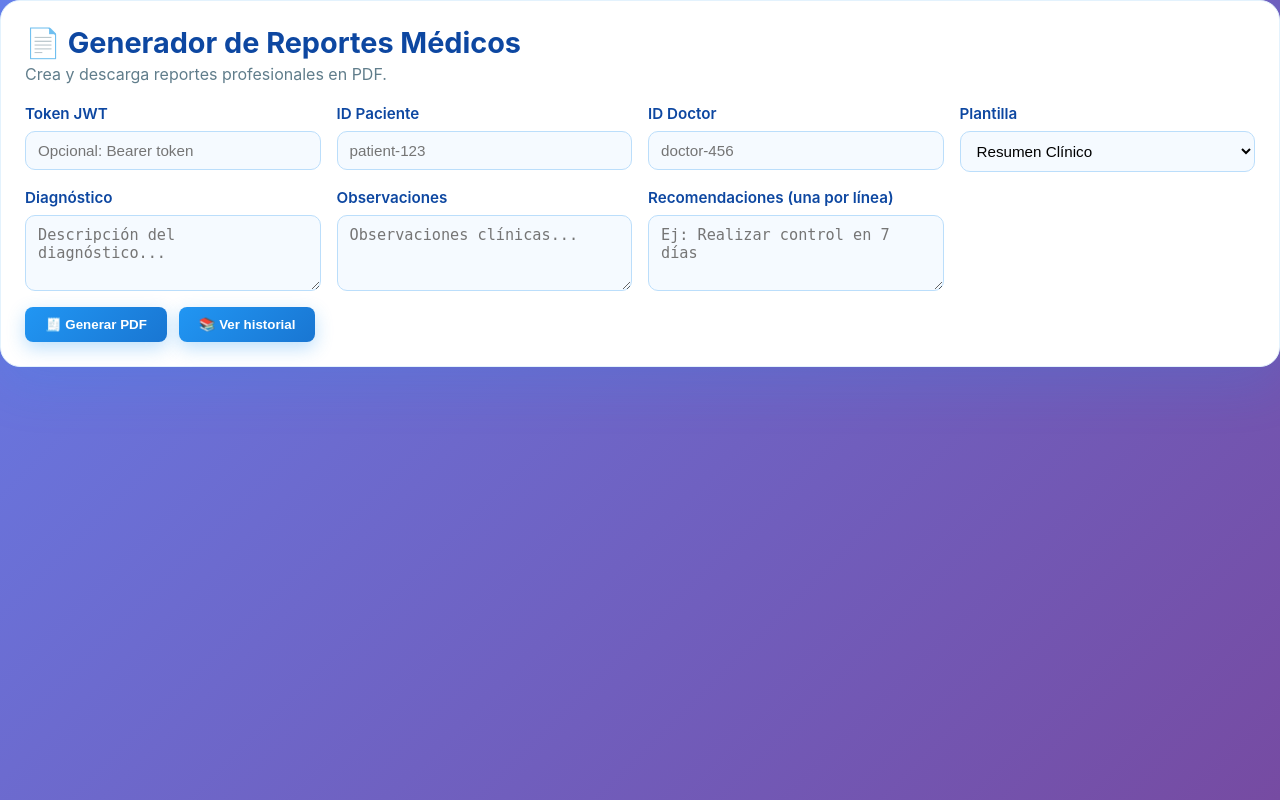
MedicalReport component › carga historial con éxito cuando se proporciona paciente
Type "patient-2" into the field with placeholder "patient-123" at {"x": 484, "y": 150}, box [336, 131, 632, 170]
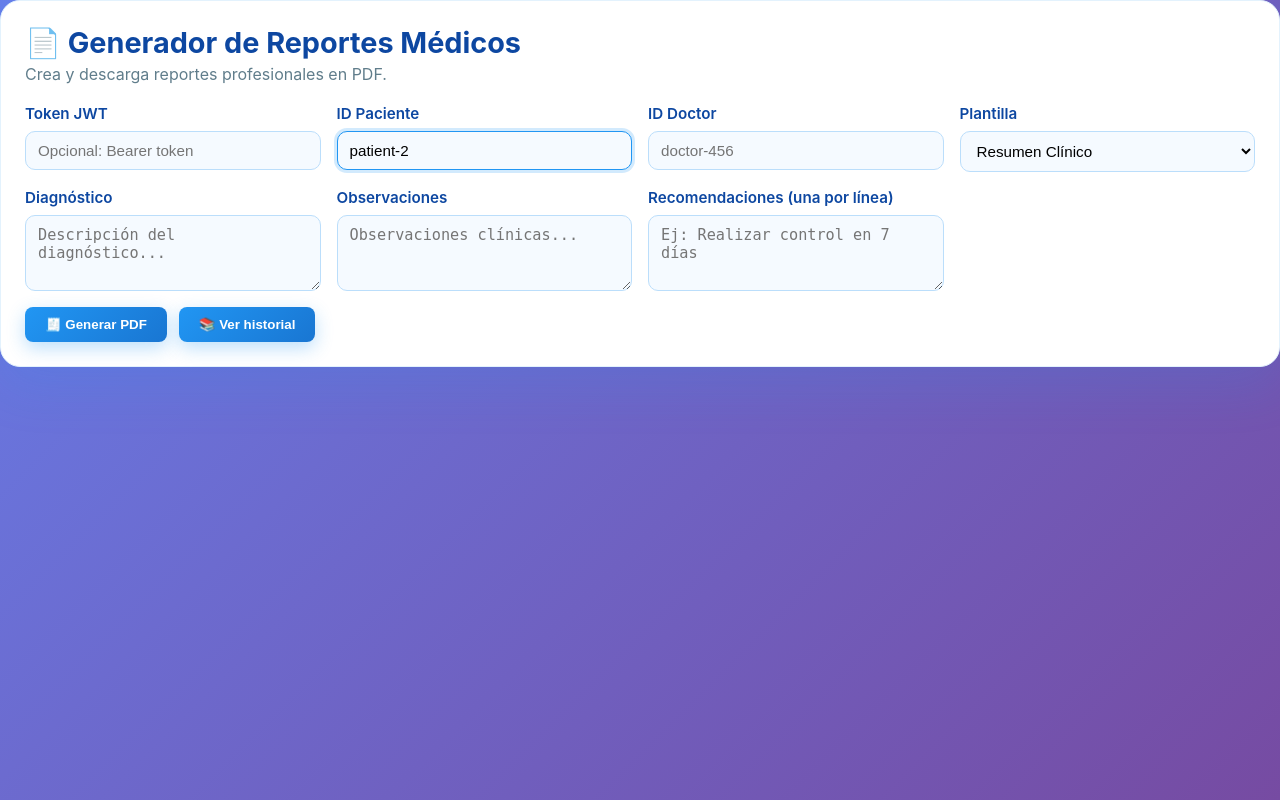
Click the button "📚 Ver historial" at {"x": 247, "y": 324}, box [179, 307, 315, 342]
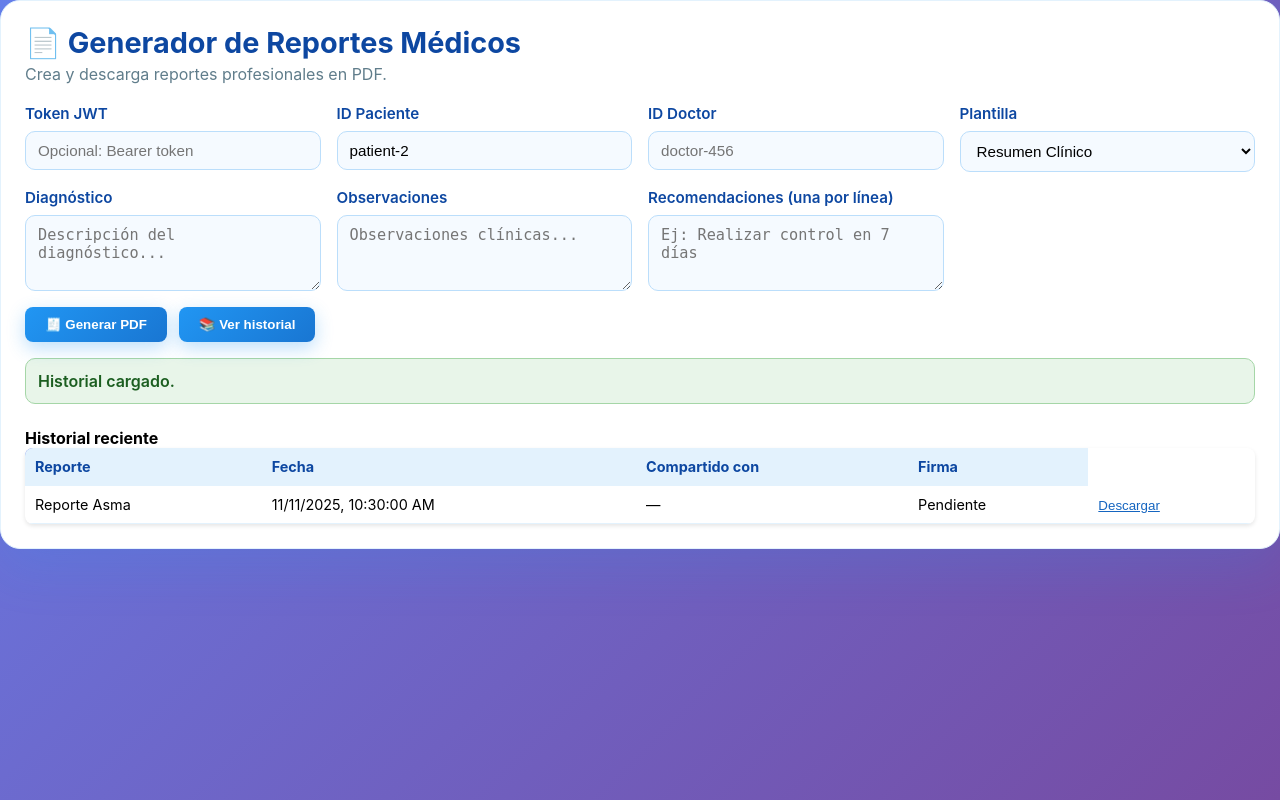
Expected: the text "Historial cargado." is shown, [25, 358, 1255, 404]
Expected: the text "Reporte Asma" is shown, [25, 486, 262, 524]
Expected: the text "Pendiente" is shown, [908, 486, 1088, 524]
